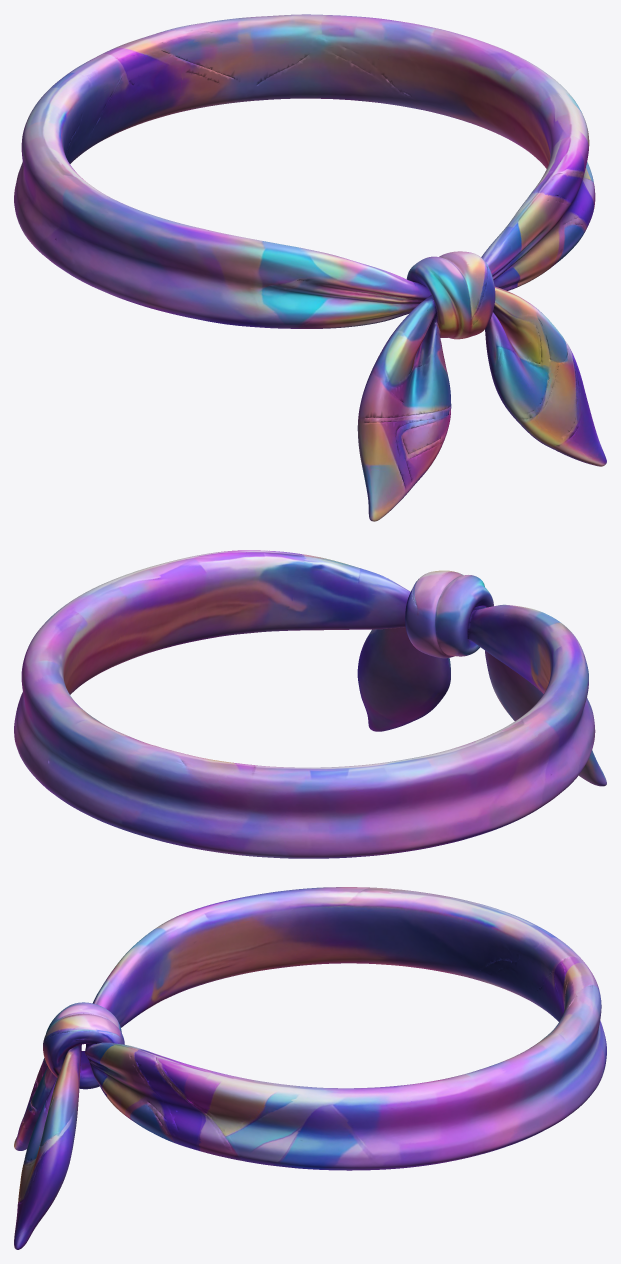
Rendered from scarf.glb.
3 views of the same model, one above another, from view 1: azimuth 30°, elevation 25°; view 2: azimuth 150°, elevation 25°; view 3: azimuth 270°, elevation 25° (orthographic). The views are drawn at different scales.
Parts seen in each view (by area): view 1: tripo_node_7f9e1613-4132-4f37-9d0f-363beb2ba1fb; view 2: tripo_node_7f9e1613-4132-4f37-9d0f-363beb2ba1fb; view 3: tripo_node_7f9e1613-4132-4f37-9d0f-363beb2ba1fb.
Boxes of the visible parts, x1,y1,x2,y2 form: tripo_node_7f9e1613-4132-4f37-9d0f-363beb2ba1fb: [14, 14, 606, 521]; tripo_node_7f9e1613-4132-4f37-9d0f-363beb2ba1fb: [14, 550, 606, 858]; tripo_node_7f9e1613-4132-4f37-9d0f-363beb2ba1fb: [14, 887, 606, 1249].
Bounding box in the file's own units: 2.26 × 1 × 2.55.
1 material, 1 textured.
